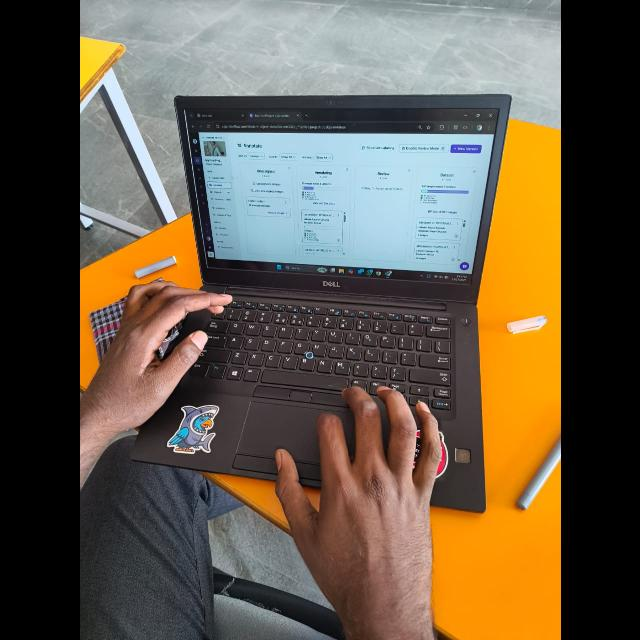laptop: (128, 78, 518, 520)
